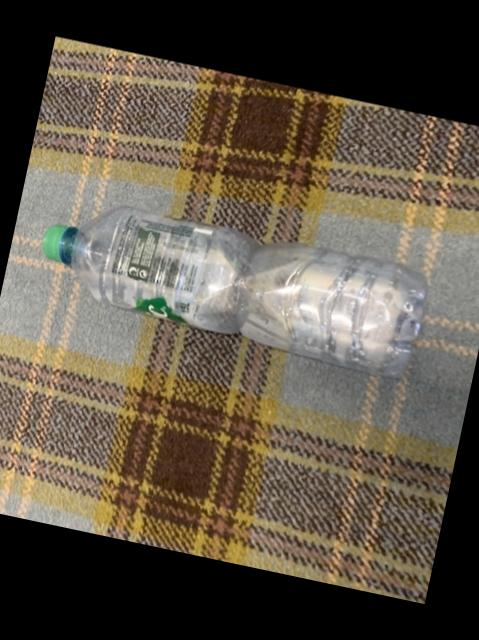plastic: (40, 207, 424, 378)
